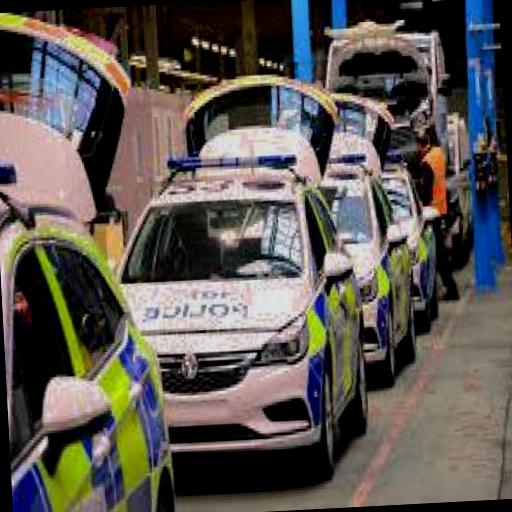Ambulance: (106, 146, 373, 474)
